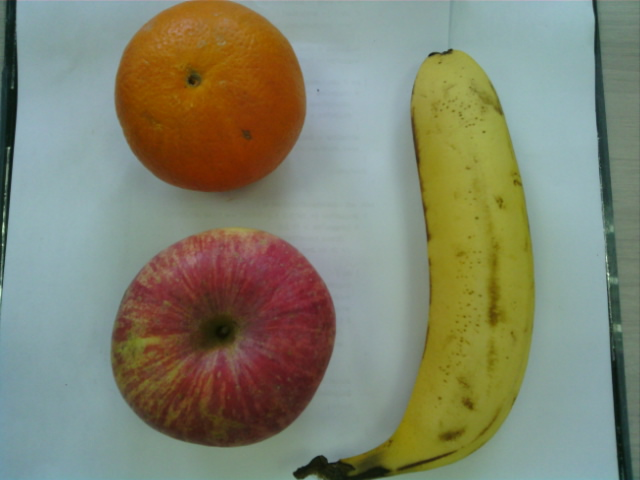normal_apple: (110, 225, 338, 447)
normal_banana: (371, 48, 538, 480)
normal_orange: (113, 3, 306, 193)
